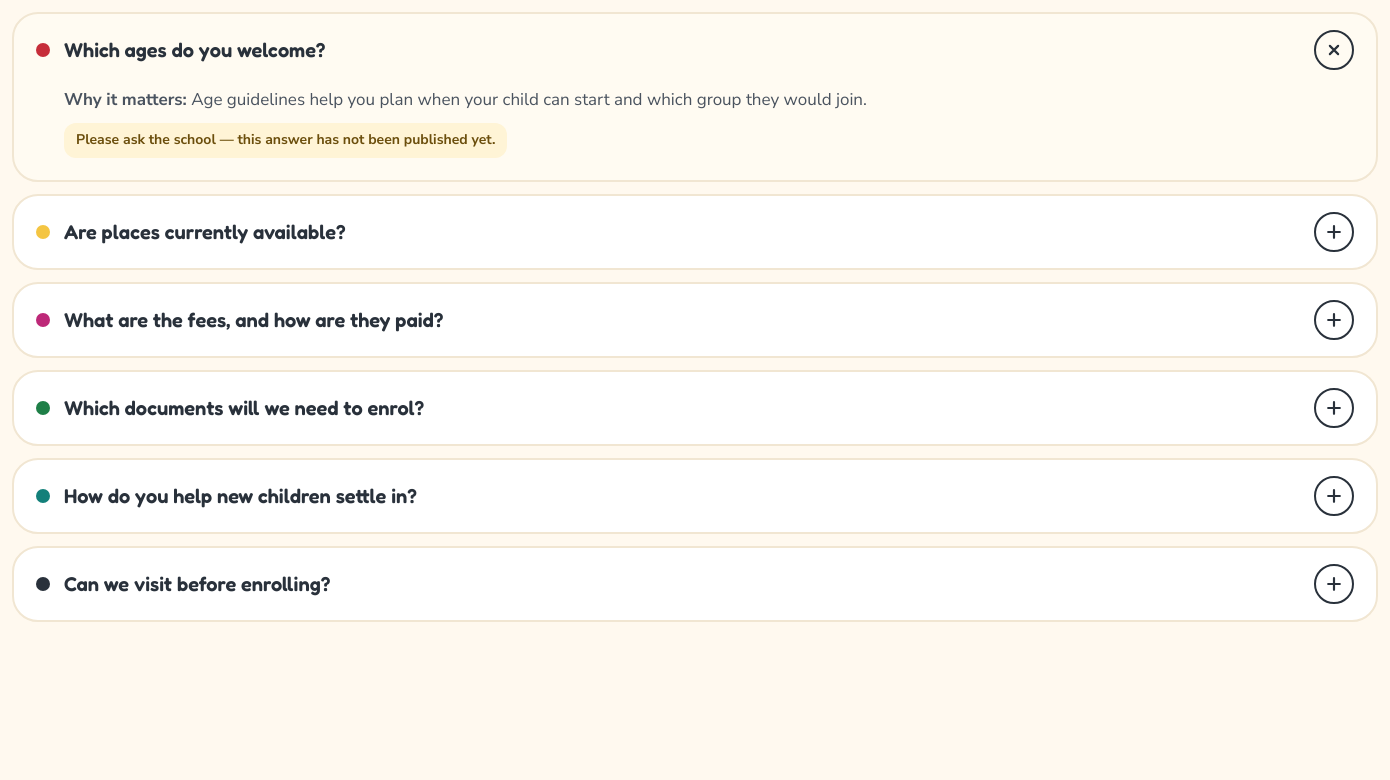
Test: QuestionAccordion › toggles one panel at a time and never invents answers
Click the button "What are the fees, and how are they paid?".
click(254, 320)  # box [14,284,1376,356]
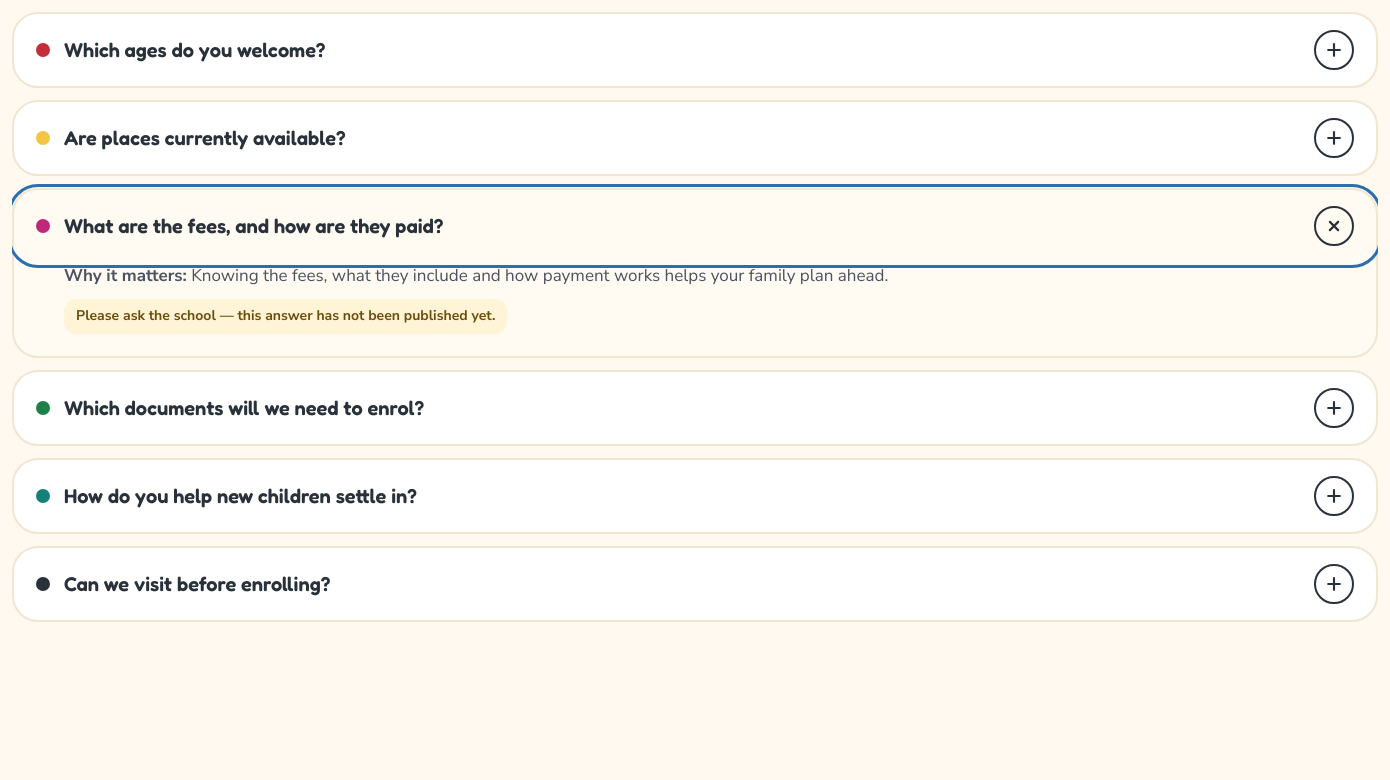
Check: the element named "what are the fees" shows "has not been published yet", box [76,306,495,325]
Check: the button "What are the fees, and how are they paid?" is expanded, box [14,190,1376,262]
Check: the button "Which ages do you welcome?" is collapsed, box [14,14,1376,86]
